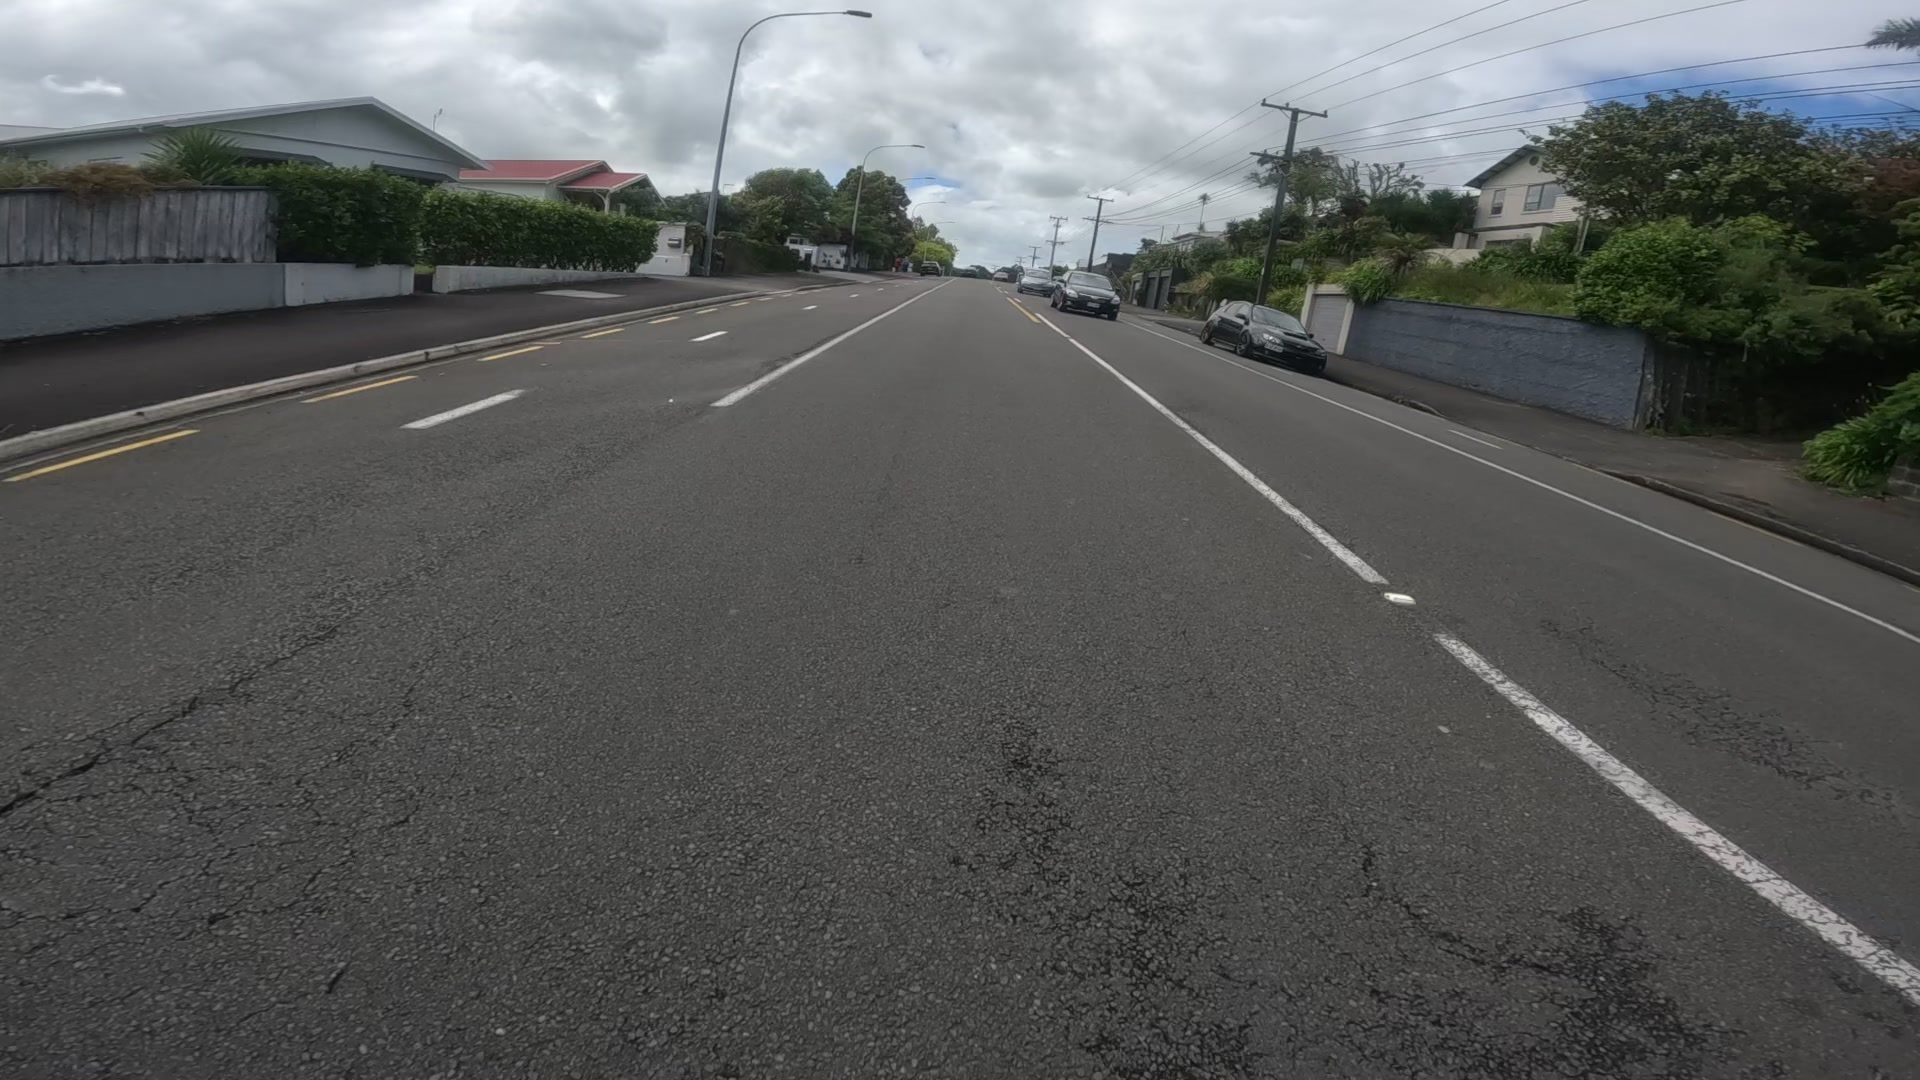Longitudinal_Cracking: (28, 588, 400, 796)
